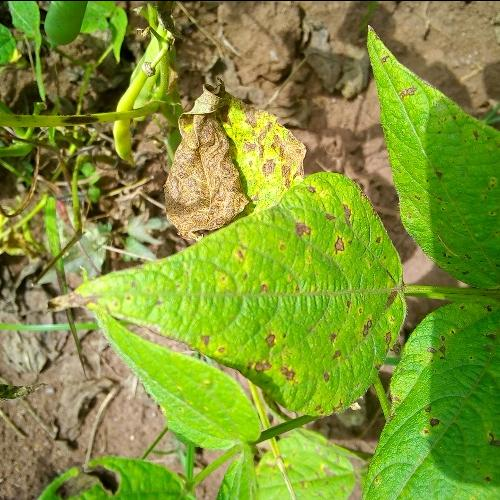hawar: (245, 315, 322, 379), (324, 202, 360, 268), (288, 212, 314, 258), (328, 316, 348, 371), (426, 393, 450, 438), (196, 322, 220, 354), (242, 276, 270, 302), (358, 311, 378, 347), (391, 82, 418, 98)
mozaik: (167, 186, 391, 417)
